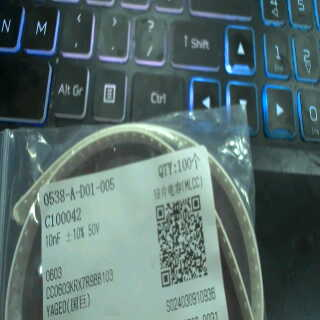10nF: (44, 231, 63, 250)
